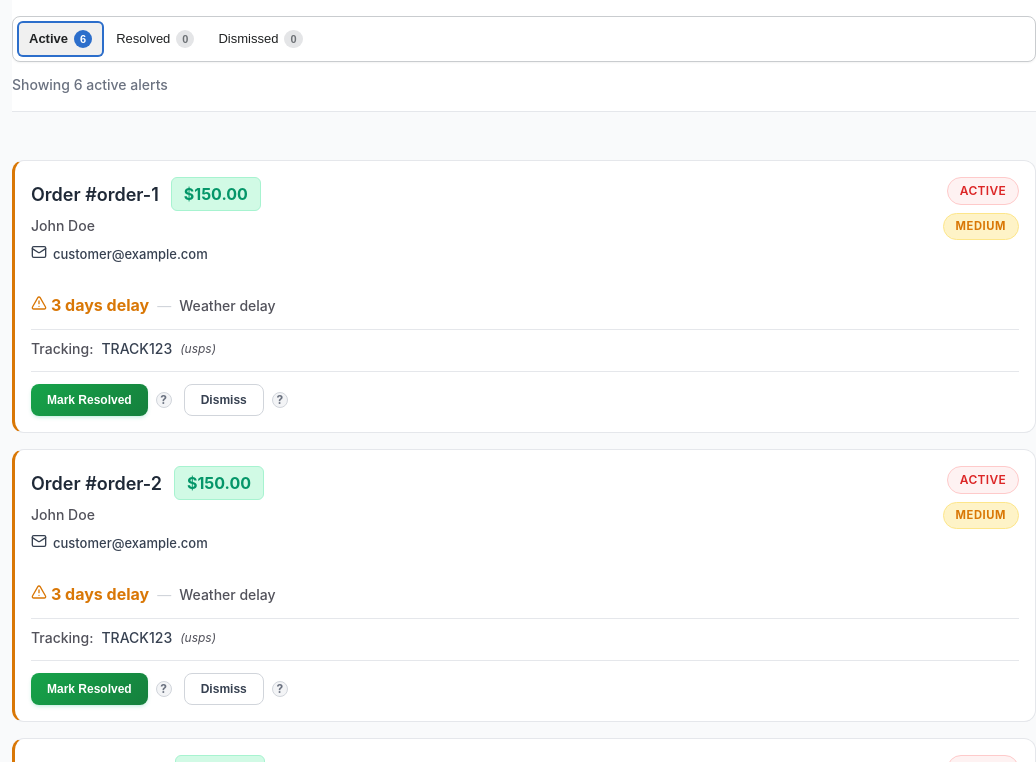
AlertsTab Component › v1.32: Lucide Icon Integration - Empty State Icons › Dismissed Tab Empty State Icon › should maintain accessible empty state text on Dismissed tab
This screenshot has width=1036, height=762.
// Switch to Dismissed tab
What coordinates should you click on to do the following:
click the button "Dismissed 0"
I would click on:
 (261, 39)
Its box is top-left (206, 21), bottom-right (315, 57).
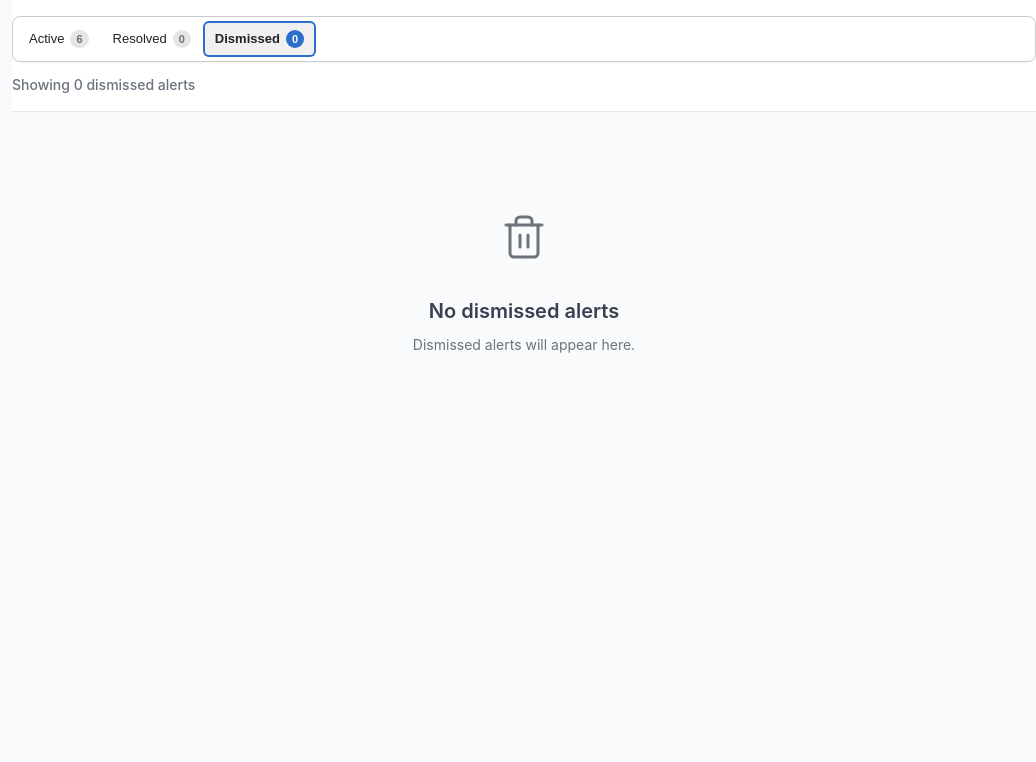
Check: the heading "No dismissed alerts" is shown, box top-left (429, 296), bottom-right (619, 326)
